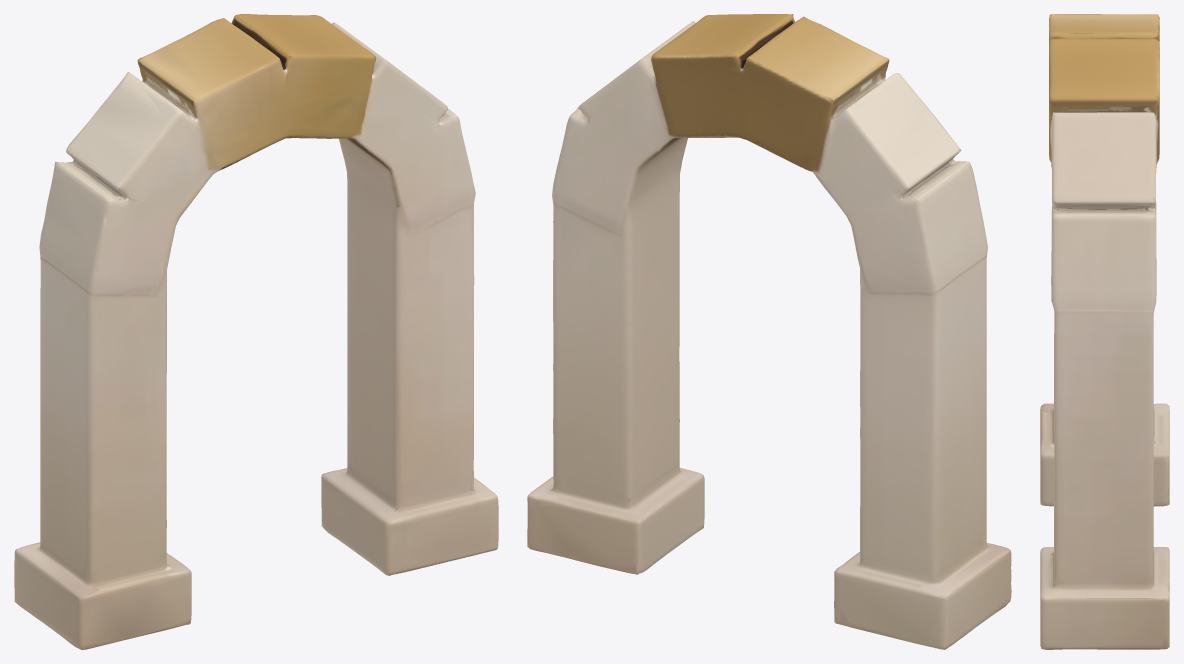
File: arch.glb
The picture shows the model from 3 angles, left to right: view 1: azimuth 30°, elevation 25°; view 2: azimuth 150°, elevation 25°; view 3: azimuth 270°, elevation 25°; orthographic projection. The views are drawn at different scales.
Parts seen in each view (by area): view 1: model.004; view 2: model.004; view 3: model.004.
Boxes of the visible parts, x1=… form: model.004: x1=14, y1=14, x2=498, y2=649; model.004: x1=527, y1=14, x2=1011, y2=649; model.004: x1=1040, y1=14, x2=1169, y2=649.
Bounding box in the file's own units: 1.55 × 1.91 × 0.4333.
1 material, 1 textured.
